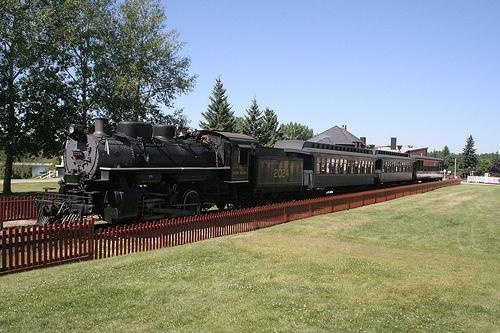train: (36, 116, 445, 229)
